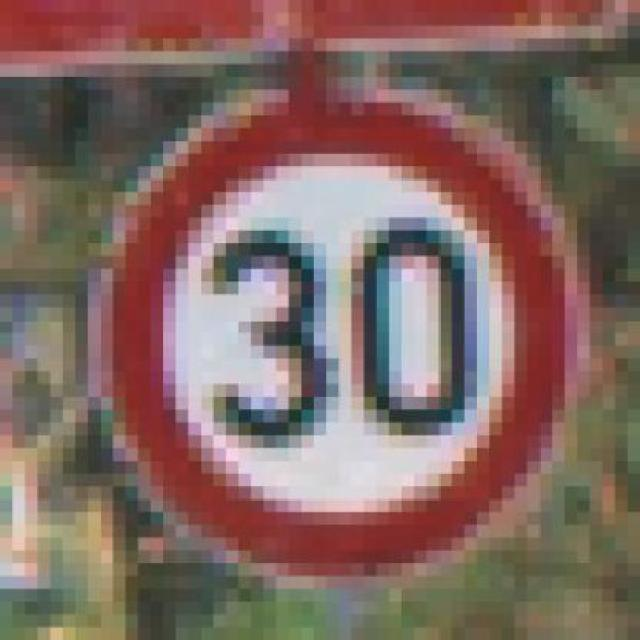Speed Limit 30 KMPh: (88, 90, 603, 615)
